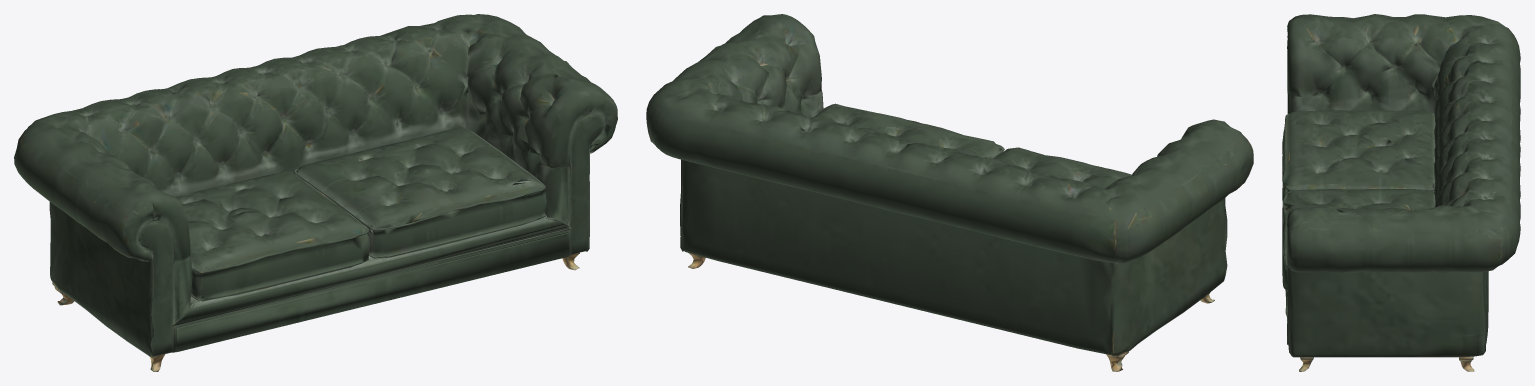
Rendered from sofa_chesterfield.glb.
3 renders of one model, left to right at view 1: azimuth 30°, elevation 25°; view 2: azimuth 150°, elevation 25°; view 3: azimuth 270°, elevation 25°, orthographic. The views are drawn at different scales.
Parts seen in each view (by area): view 1: prop; view 2: prop; view 3: prop.
Boxes of the visible parts, box(x1,y1,x2,y2) form: prop: box(14, 14, 617, 371); prop: box(646, 14, 1253, 371); prop: box(1282, 14, 1520, 371).
Bounding box in the file's own units: 2.2 × 0.758 × 0.987.
1 material, 1 textured.
